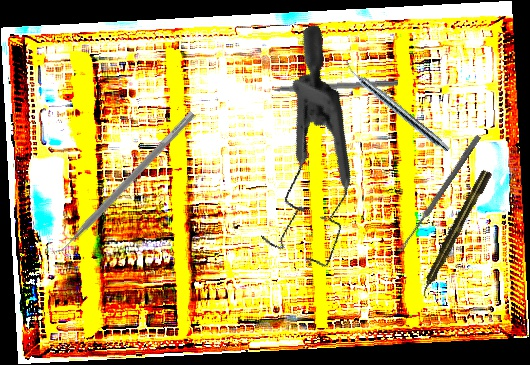Handpiece: (340, 59, 453, 155), (415, 168, 494, 299)
Hook Surgical: (256, 78, 399, 94)
Spatula Surgical: (49, 104, 196, 261)
Speculum: (183, 22, 423, 288)
Surgical Spoon: (397, 133, 482, 254)
